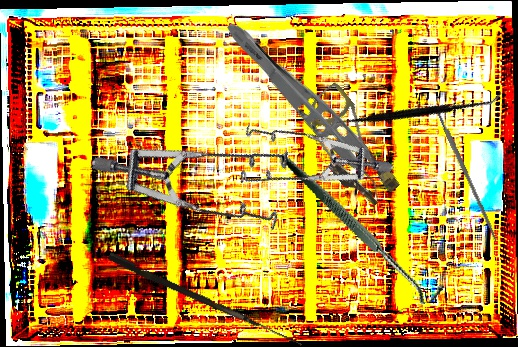Cannula: (289, 81, 412, 213)
Hook Surgical: (279, 119, 447, 333), (106, 252, 306, 346)
Scalpel Handle: (433, 104, 499, 242)
Spatula Surgical: (324, 24, 503, 198)
Speculum: (88, 58, 318, 284), (217, 80, 395, 251)
Tissue Forceps: (210, 16, 403, 205)
